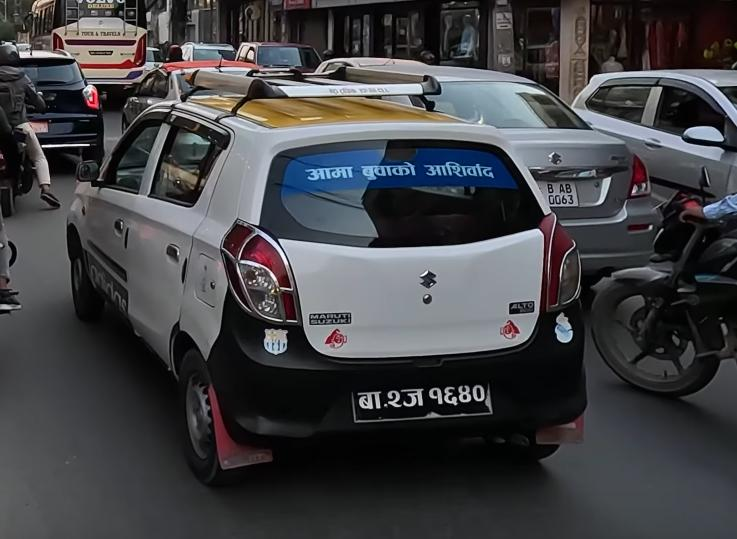bike: (590, 164, 737, 403)
bus: (20, 0, 151, 99)
car: (0, 48, 107, 173)
taxi: (58, 82, 585, 480)
